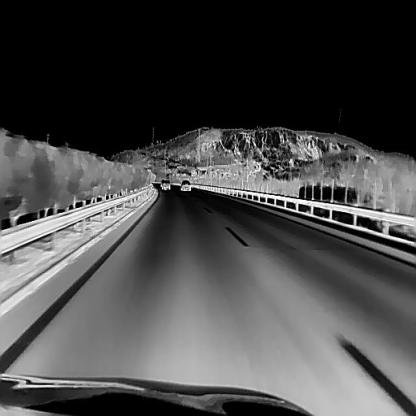car: (160, 178, 170, 189), (180, 179, 190, 190)
